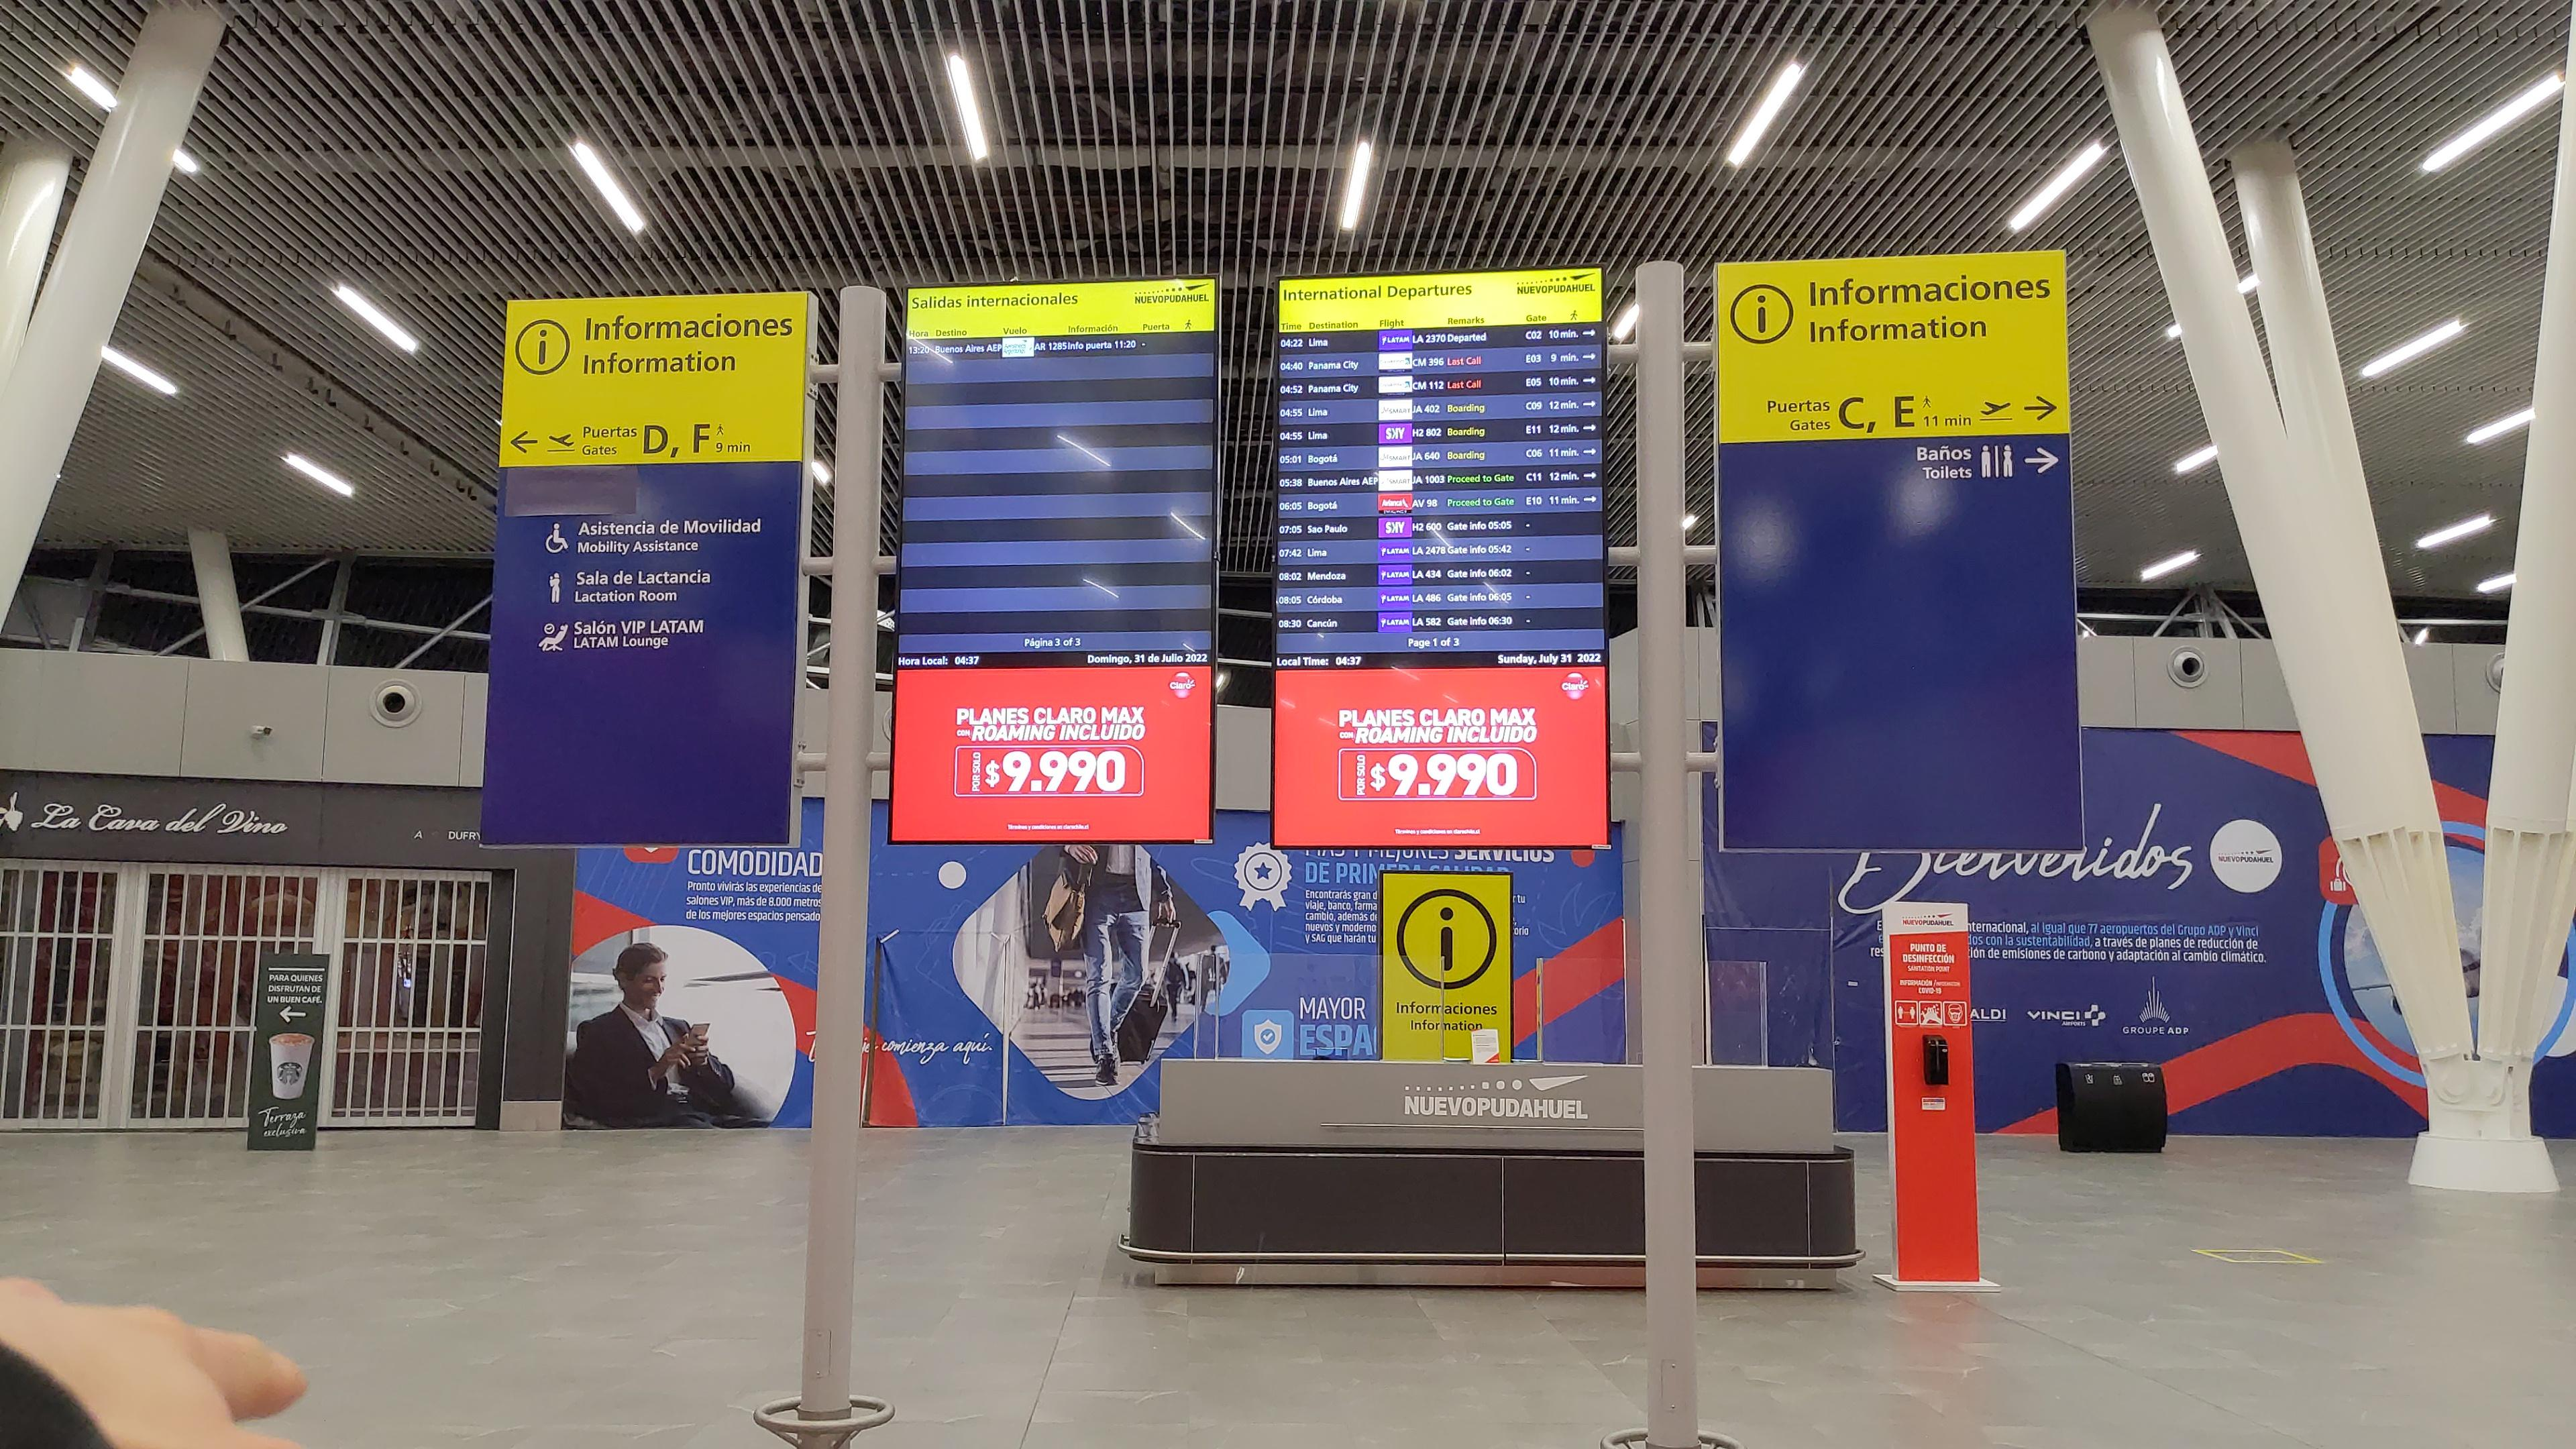airplane symbol: (1980, 400, 2012, 418), (547, 432, 577, 449)
bathrooms: (1980, 442, 2017, 479)
handicapped symbol: (543, 520, 571, 554)
thin right arrow: (2022, 446, 2059, 476), (2020, 395, 2059, 423), (508, 428, 540, 455)
